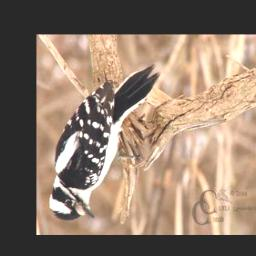Woodpecker: (47, 60, 161, 222)
